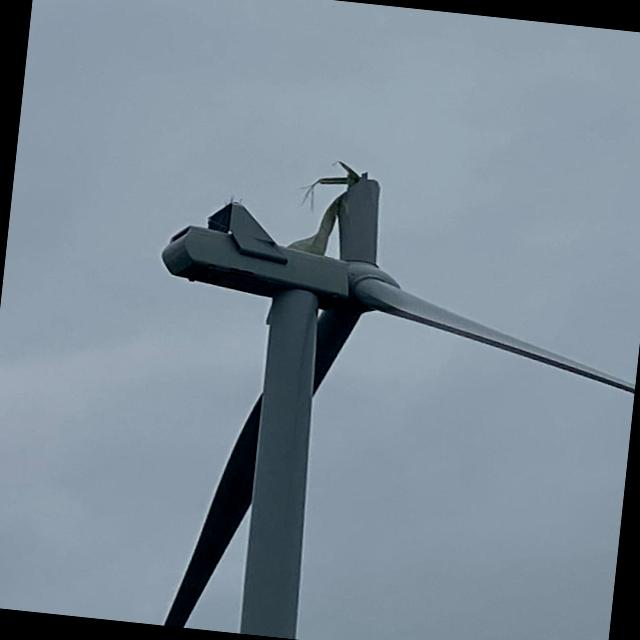crack: (284, 158, 400, 259)
